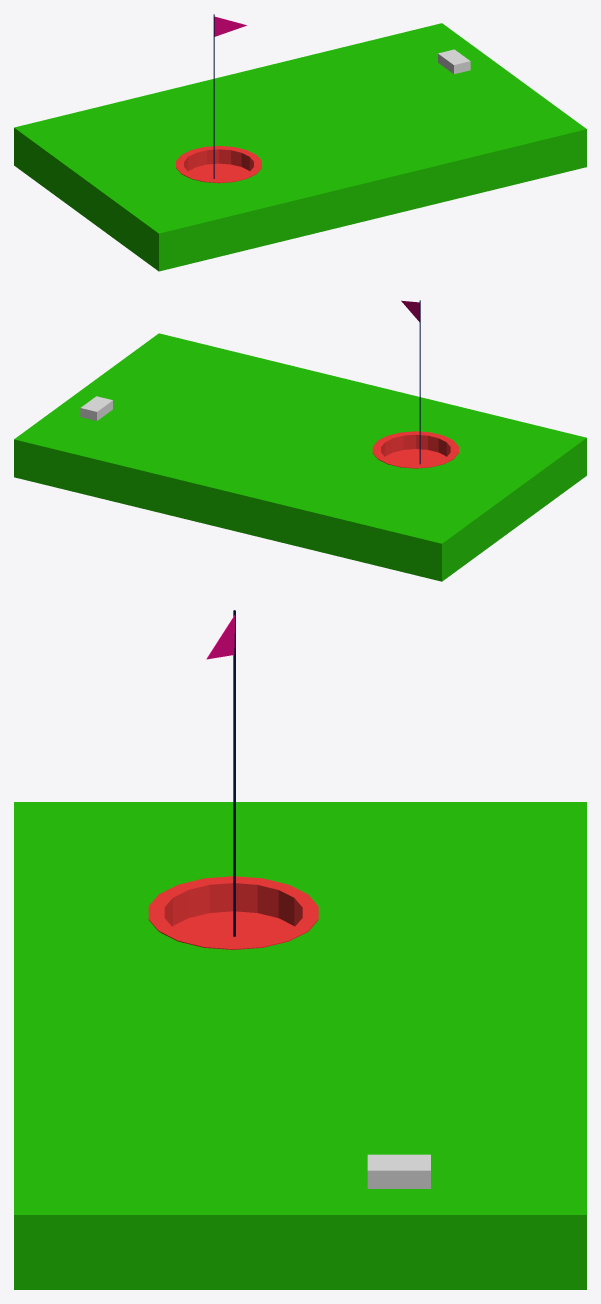
The model's file is deneme-tahtasi.fbx.
3 views of the same model, one above another, from view 1: azimuth 30°, elevation 25°; view 2: azimuth 150°, elevation 25°; view 3: azimuth 270°, elevation 25° (orthographic). The views are drawn at different scales.
Visible parts, largest first — view 1: Box002, Cylinder004, Box003, Box001; view 2: Box002, Cylinder004, Box003; view 3: Box002, Cylinder004, Box003, Cylinder003.
Boxes of the visible parts, x1=… form: Box002: x1=14, y1=23, x2=586, y2=271; Cylinder004: x1=176, y1=146, x2=261, y2=183; Box003: x1=438, y1=49, x2=470, y2=74; Box001: x1=214, y1=16, x2=246, y2=36; Box002: x1=14, y1=333, x2=586, y2=581; Cylinder004: x1=372, y1=431, x2=458, y2=468; Box003: x1=80, y1=396, x2=112, y2=420; Box002: x1=14, y1=802, x2=586, y2=1289; Cylinder004: x1=148, y1=876, x2=318, y2=949; Box003: x1=367, y1=1154, x2=430, y2=1188; Cylinder003: x1=233, y1=610, x2=235, y2=936.
Size of the model in its own units: 197 by 82.95 by 115.
